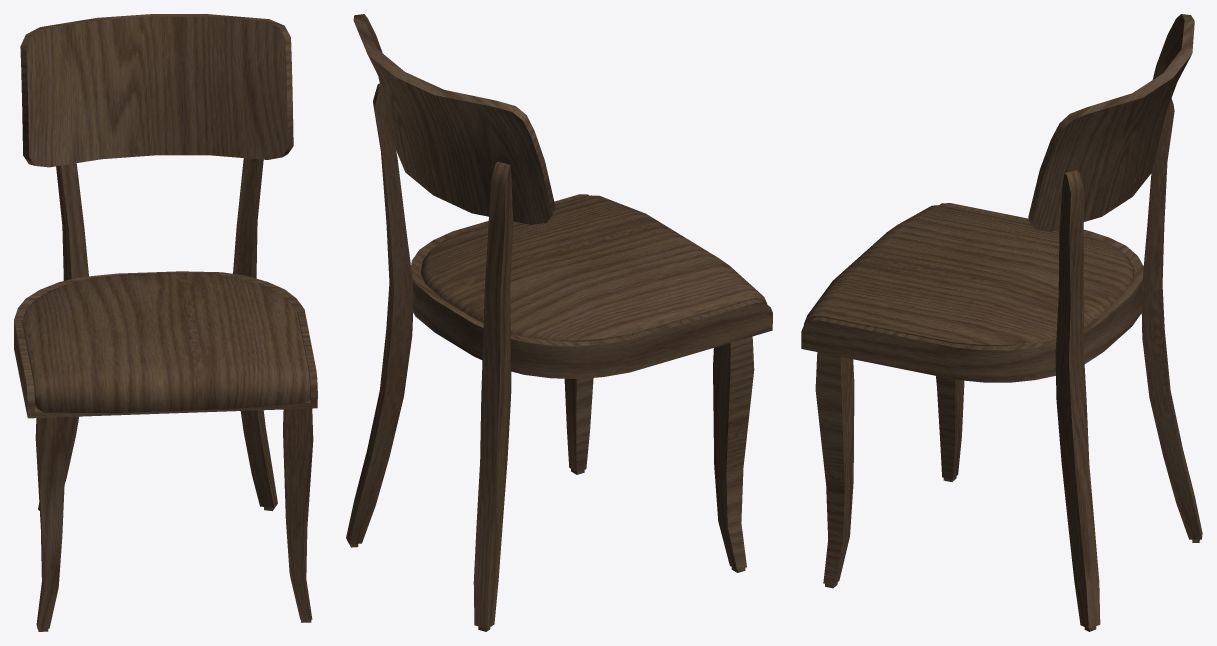
The model's file is teak-c.glb.
The picture shows the model from 3 angles, left to right: view 1: azimuth 30°, elevation 25°; view 2: azimuth 150°, elevation 25°; view 3: azimuth 270°, elevation 25°; orthographic projection. The views are drawn at different scales.
Parts seen in each view (by area): view 1: bk_n3d, top2_n3d, leg_n3d, bk leg_n3d, top_n3d; view 2: top2_n3d, bk leg_n3d, bk_n3d, top_n3d, leg_n3d; view 3: top2_n3d, bk leg_n3d, bk_n3d, top_n3d, leg_n3d.
Part boxes in pixels (<box>): bk_n3d: <box>20,14,293,167</box>; top2_n3d: <box>23,272,309,413</box>; leg_n3d: <box>35,408,313,631</box>; bk leg_n3d: <box>38,158,277,511</box>; top_n3d: <box>14,271,317,418</box>; top2_n3d: <box>421,195,766,341</box>; bk leg_n3d: <box>346,83,513,631</box>; bk_n3d: <box>353,14,555,224</box>; top_n3d: <box>411,194,772,378</box>; leg_n3d: <box>564,336,754,572</box>; top2_n3d: <box>804,205,1133,346</box>; bk leg_n3d: <box>1055,98,1202,631</box>; bk_n3d: <box>1028,14,1194,231</box>; top_n3d: <box>801,203,1143,382</box>; leg_n3d: <box>815,352,964,588</box>.
Size of the model in its own units: 0.5542 by 0.8004 by 0.5613.
1 material, 1 textured.
